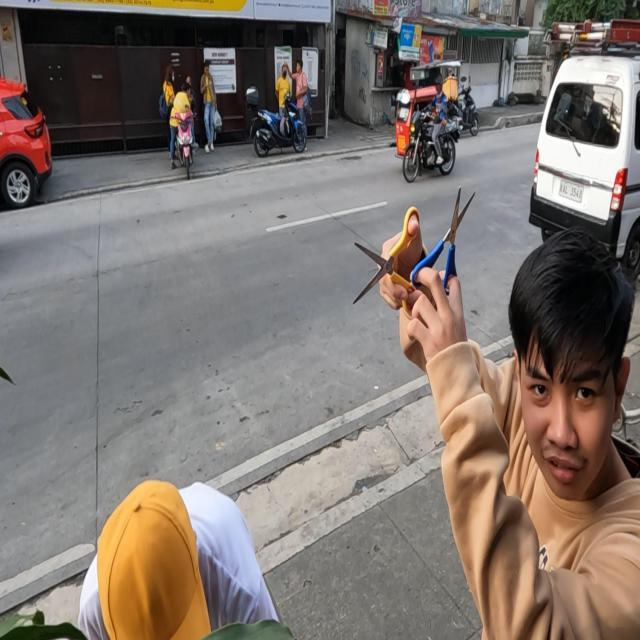scissor: (352, 200, 427, 306), (413, 182, 479, 292)
